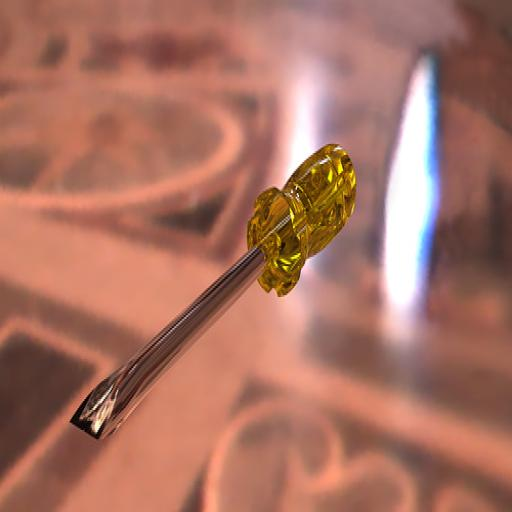screwdriver: (69, 140, 357, 445)
